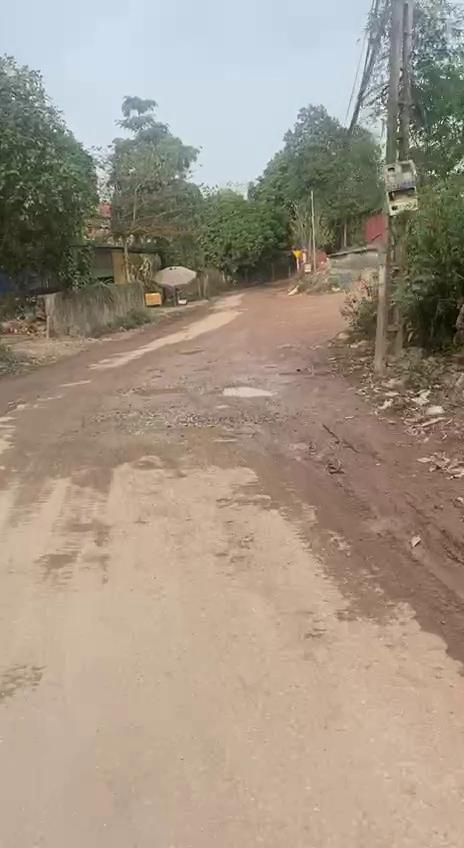pothole: (98, 405, 266, 443), (214, 380, 282, 402), (124, 380, 192, 400)
